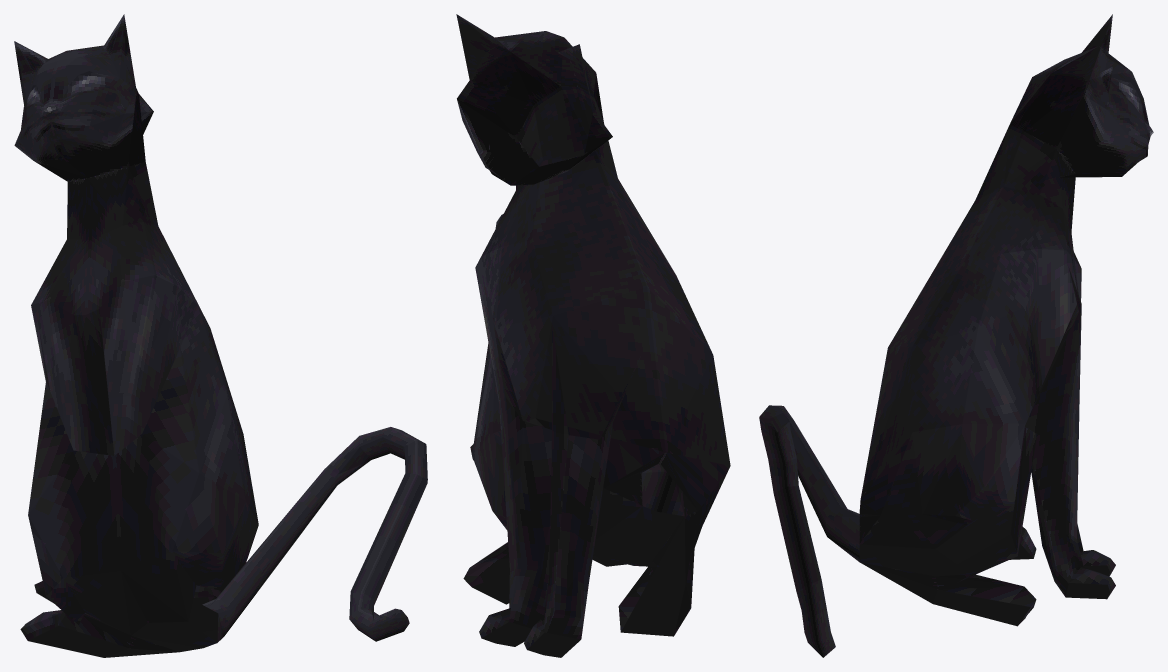
File: ps2_save-icons_amagoushinoyakata.glb
3 views of the same model, side by side, from view 1: azimuth 30°, elevation 25°; view 2: azimuth 150°, elevation 25°; view 3: azimuth 270°, elevation 25° (orthographic). The views are drawn at different scales.
Visible parts, largest first — view 1: icon.dat; view 2: icon.dat; view 3: icon.dat.
Part boxes in pixels (left/top/right/bottom): icon.dat: left=14, top=14, right=427, bottom=657; icon.dat: left=456, top=14, right=730, bottom=657; icon.dat: left=759, top=14, right=1153, bottom=657.
Bounding box in the file's own units: 2.4 × 4.38 × 2.89.
1 material, 1 textured.
